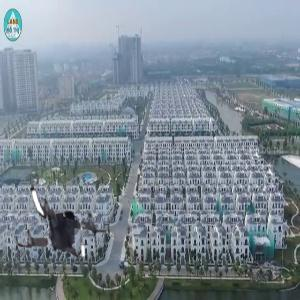drone: (7, 166, 115, 274)
